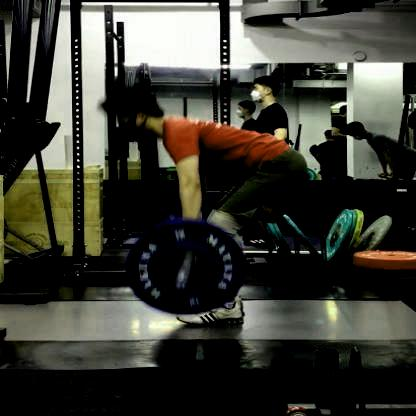Barbell: (171, 280, 193, 295)
